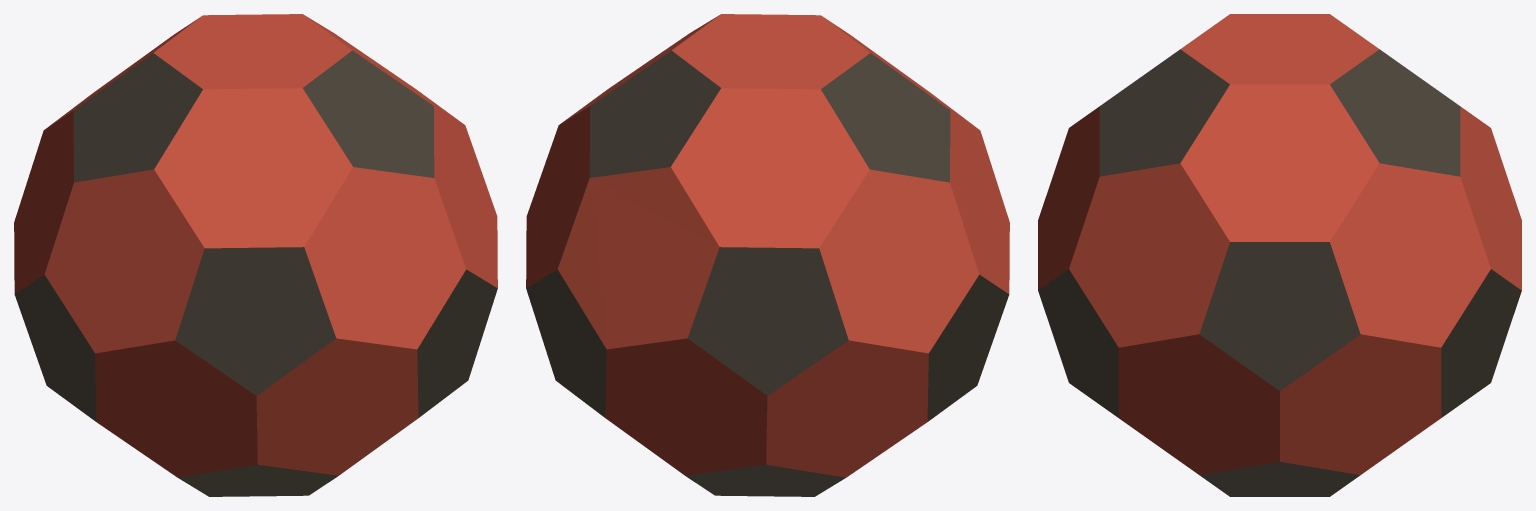
Rendered from SM_Toy_08.fbx.
The picture shows the model from 3 angles, left to right: view 1: azimuth 30°, elevation 25°; view 2: azimuth 150°, elevation 25°; view 3: azimuth 270°, elevation 25°; orthographic projection.
Parts seen in each view (by area): view 1: SM_Toy_08; view 2: SM_Toy_08; view 3: SM_Toy_08.
Boxes of the visible parts, <box> form: SM_Toy_08: <box>14,14,497,496</box>; SM_Toy_08: <box>526,14,1009,496</box>; SM_Toy_08: <box>1038,14,1521,496</box>.
Size of the model in its own units: 23.81 by 22.15 by 23.57.
